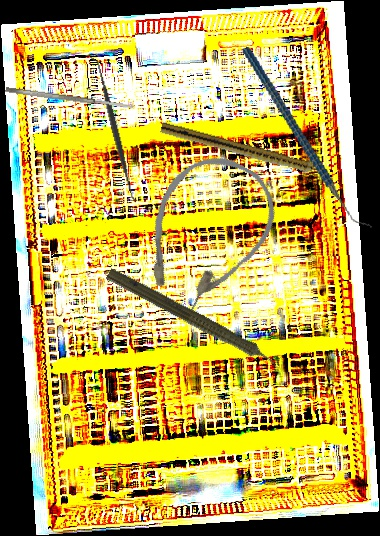Cannula: (119, 139, 292, 329)
Chopper: (241, 28, 373, 248)
Handpiece: (102, 264, 290, 380), (159, 121, 333, 182)
Spatula Surgical: (88, 53, 141, 205), (5, 86, 134, 111)
